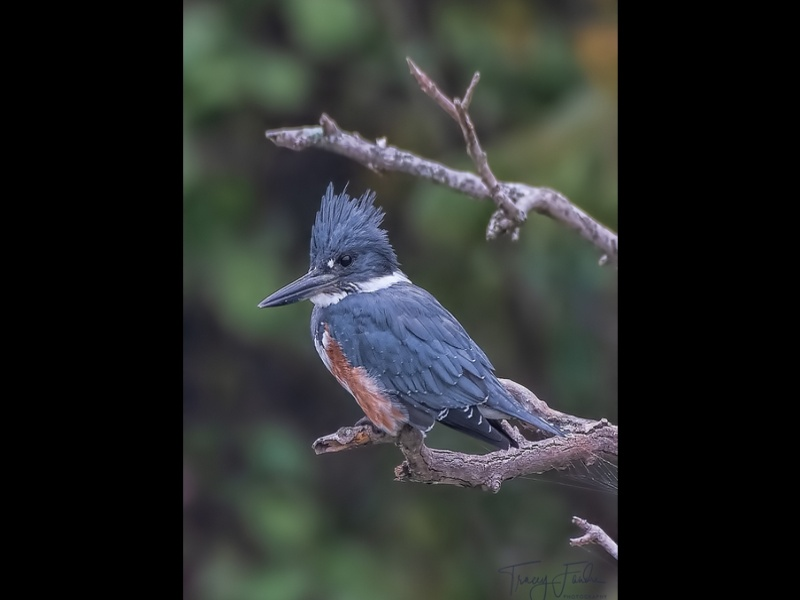kingfisher: (257, 178, 562, 477)
